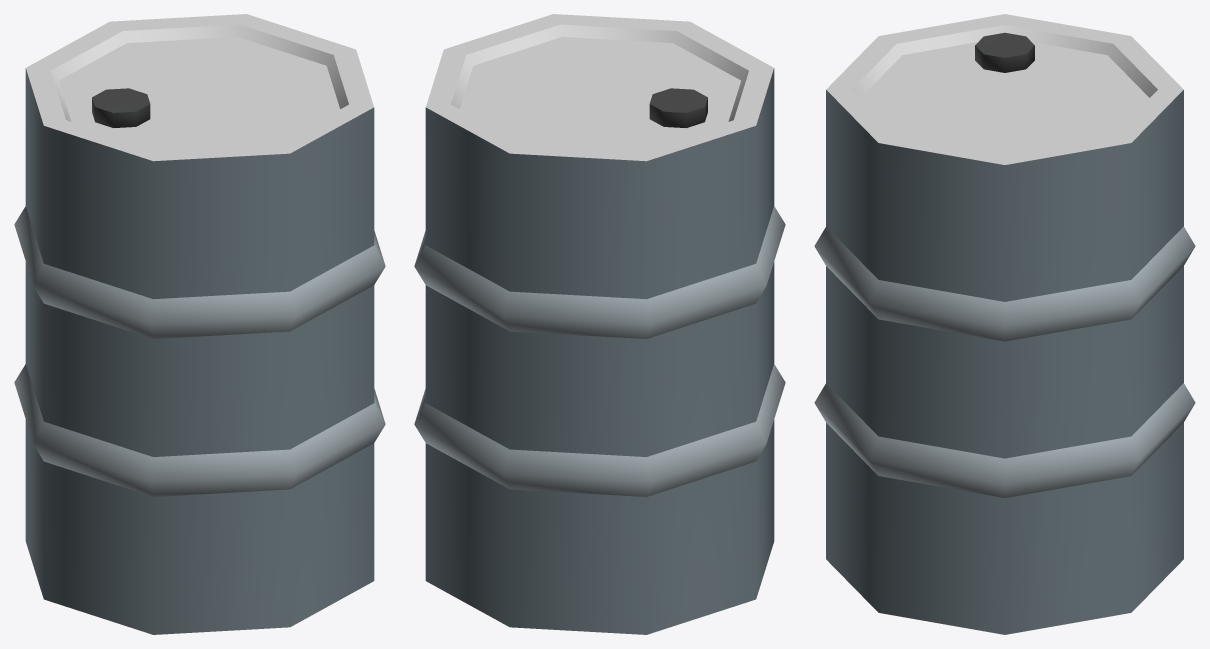
Rendered from Barrel_005.glb.
3 renders of one model, left to right at view 1: azimuth 30°, elevation 25°; view 2: azimuth 150°, elevation 25°; view 3: azimuth 270°, elevation 25°, orthographic.
Visible parts, largest first — view 1: Barrel_005; view 2: Barrel_005; view 3: Barrel_005.
Boxes of the visible parts, x1,y1,x2,y2 form: Barrel_005: (14,14,385,634); Barrel_005: (414,14,785,634); Barrel_005: (814,14,1195,634).
Bounding box in the file's own units: 0.6175 × 0.8504 × 0.6175.
Materials: 1 (1 with a texture image).
